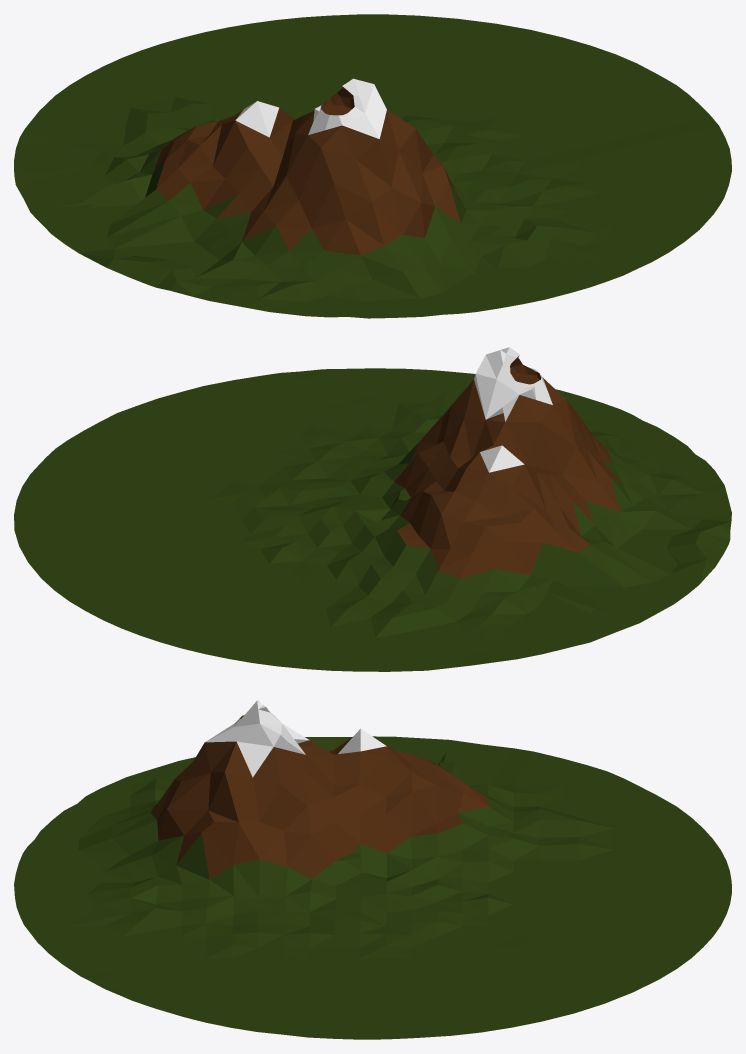
Rendered from Mountain8.glb.
3 views of the same model, one above another, from view 1: azimuth 30°, elevation 25°; view 2: azimuth 150°, elevation 25°; view 3: azimuth 270°, elevation 25° (orthographic).
Visible parts, largest first — view 1: green, Mountain; view 2: green, Mountain; view 3: green, Mountain.
Boxes of the visible parts, bbox=[...] form: green: bbox=[14, 14, 731, 318]; Mountain: bbox=[167, 79, 460, 249]; green: bbox=[14, 347, 731, 671]; Mountain: bbox=[411, 352, 541, 573]; green: bbox=[14, 700, 731, 1039]; Mountain: bbox=[159, 703, 487, 879].
Size of the model in its own units: 107 by 24.57 by 107.
